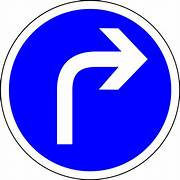right: (3, 1, 179, 179)
